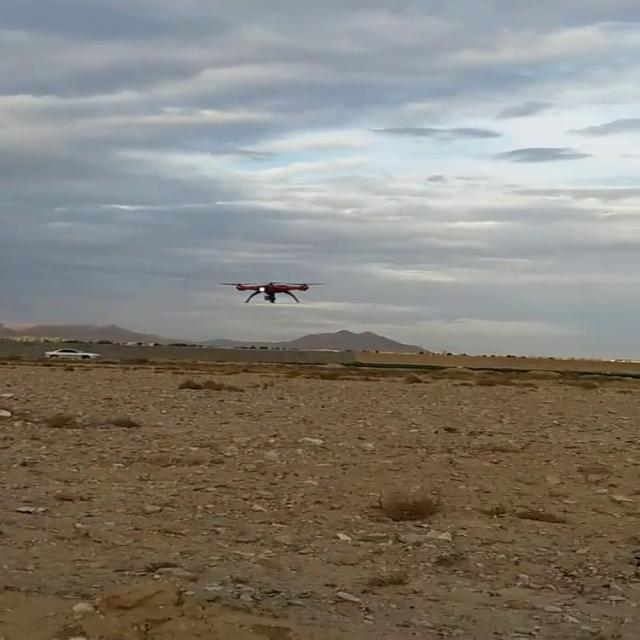drones: (218, 264, 318, 324)
